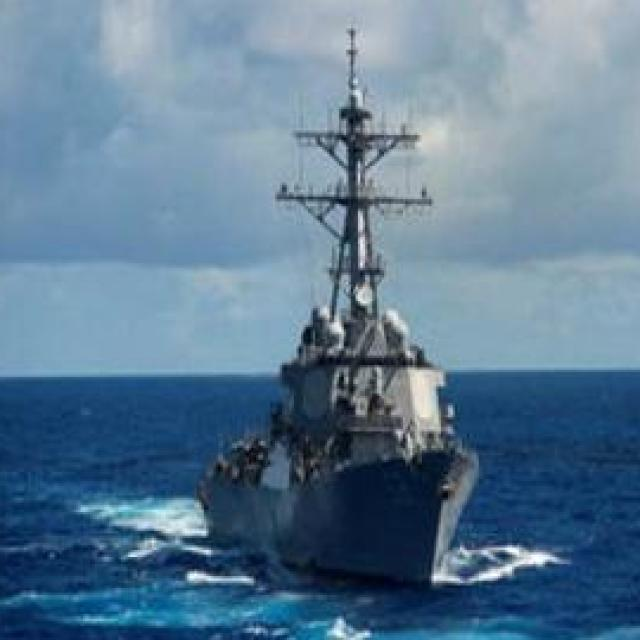navalvessels: (160, 60, 566, 554)
